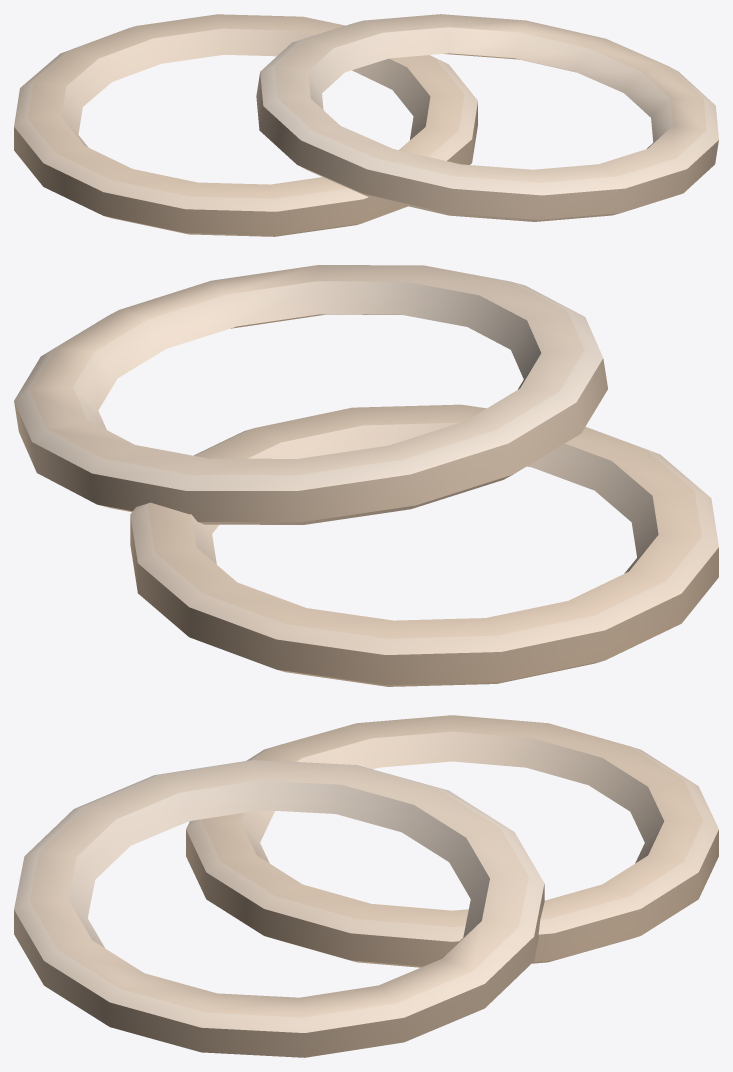
Rendered from food_ingredient_onion_rings.obj.
3 views of the same model, one above another, from view 1: azimuth 30°, elevation 25°; view 2: azimuth 150°, elevation 25°; view 3: azimuth 270°, elevation 25° (orthographic). The views are drawn at different scales.
Visible parts, largest first — view 1: food_ingredient_onion_rings_Sphere.063; view 2: food_ingredient_onion_rings_Sphere.063; view 3: food_ingredient_onion_rings_Sphere.063.
Boxes of the visible parts, x1,y1,x2,y2 form: food_ingredient_onion_rings_Sphere.063: [14, 14, 718, 236]; food_ingredient_onion_rings_Sphere.063: [14, 265, 718, 686]; food_ingredient_onion_rings_Sphere.063: [14, 715, 718, 1057].
Size of the model in its own units: 0.7758 by 0.1064 by 0.7296.
Materials: 1 (1 with a texture image).
